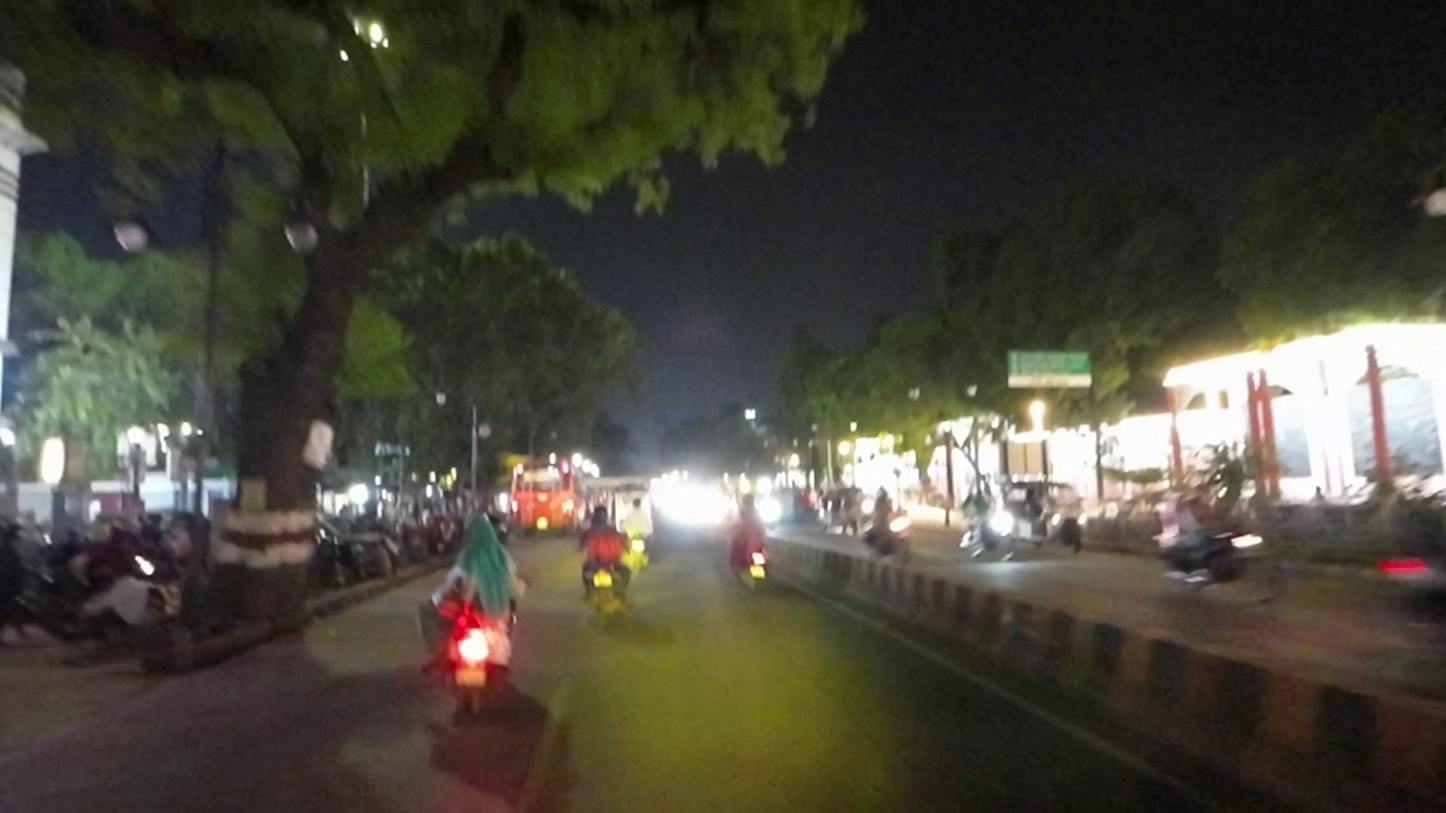streetlight: (105, 193, 168, 272), (279, 189, 326, 262)
